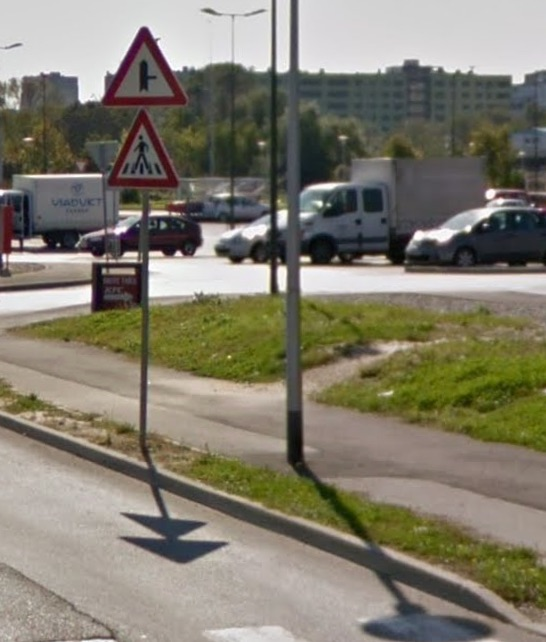Približavanje pješačkom prijelazu: (107, 107, 179, 190)
